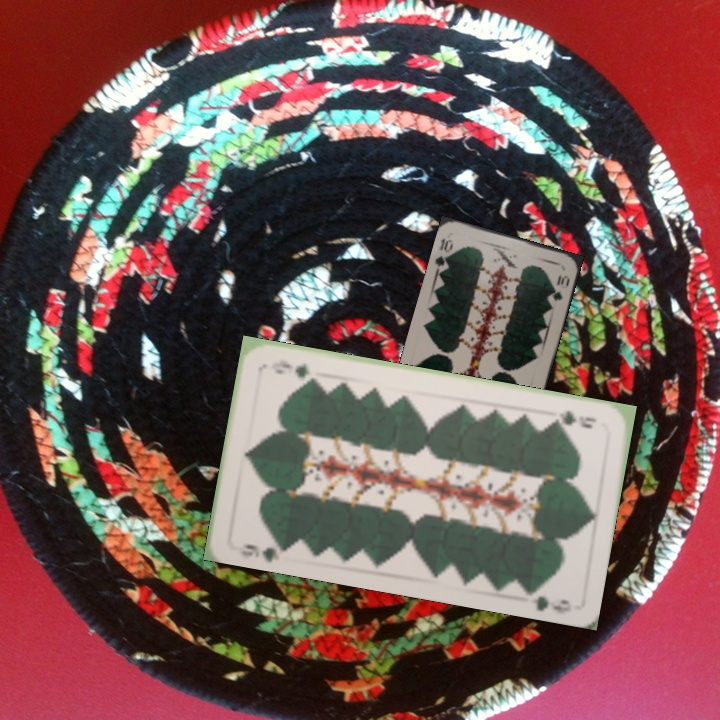G10: (431, 234, 456, 274)
G9: (237, 537, 290, 564), (547, 406, 600, 431)
